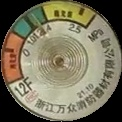green: (11, 5, 48, 40)
needle: (30, 11, 52, 43)
red: (2, 30, 27, 85)
yellow: (41, 3, 98, 29)
